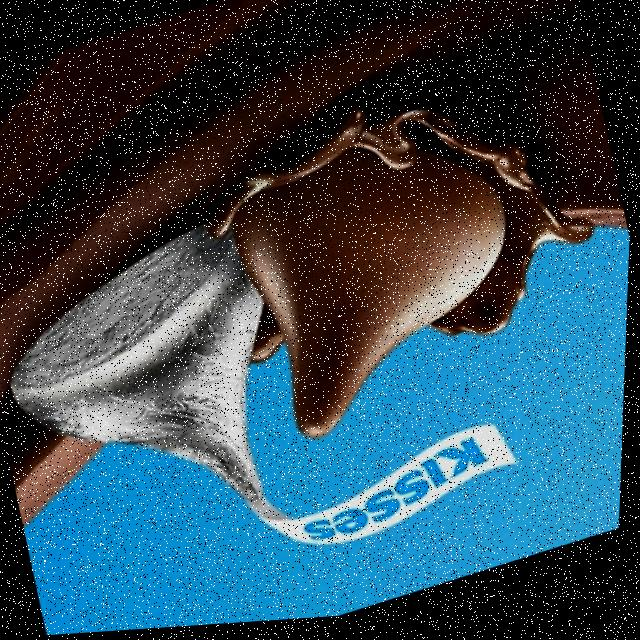kisses: (0, 188, 348, 638)
